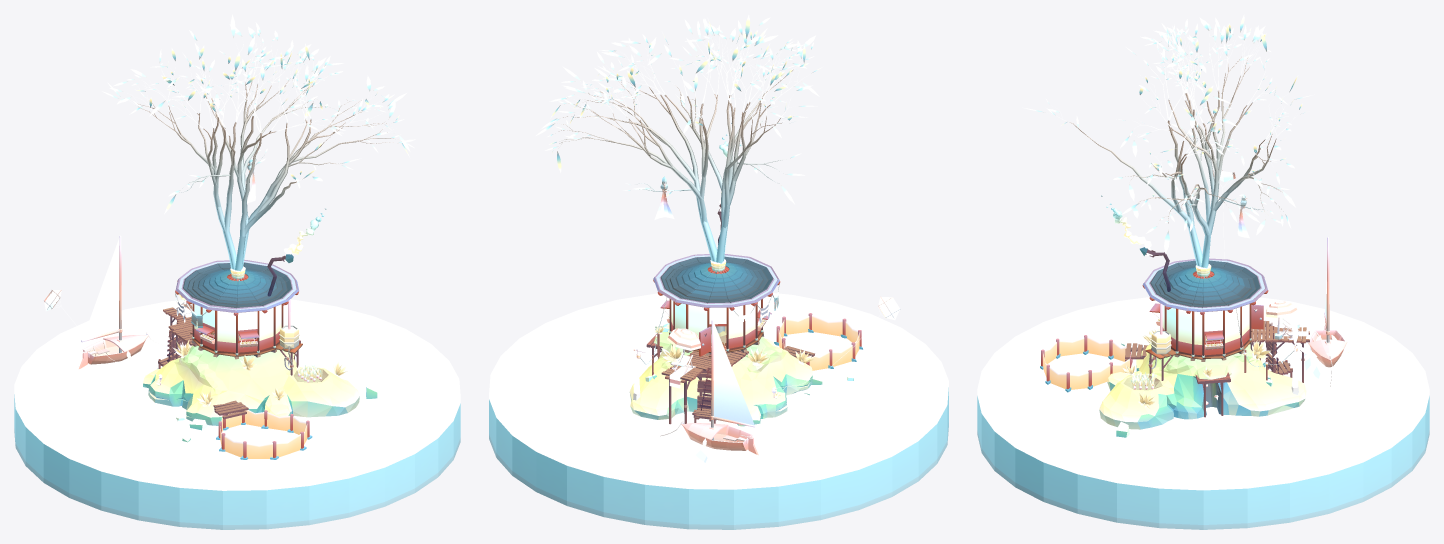
The model's file is island.gltf.
The picture shows the model from 3 angles, left to right: view 1: azimuth 30°, elevation 25°; view 2: azimuth 150°, elevation 25°; view 3: azimuth 270°, elevation 25°; orthographic projection. The views are drawn at different scales.
Parts seen in each view (by area): view 1: Circle.003, tree, Sphere.002, Plane.007, Circle, Plane, Plane.005, Sphere.001, Plane.008, Plane.029, Plane.018, Sphere.004; view 2: Circle.003, tree, Sphere.002, Plane.007, Plane, Circle, Plane.005, Plane.008, Sphere.001, Plane.029, Plane.018, Sphere.004 (+1 smaller); view 3: Circle.003, tree, Sphere.002, Plane.007, Circle, Plane.005, Sphere.001, Plane.008, Plane, Plane.018, Plane.029, Sphere.004.
Boxes of the visible parts, <box> form: Circle.003: <box>14,299,460,529</box>; tree: <box>102,14,415,337</box>; Sphere.002: <box>143,337,377,442</box>; Plane.007: <box>175,259,299,312</box>; Circle: <box>127,353,384,464</box>; Plane: <box>81,235,148,364</box>; Plane.005: <box>194,280,281,354</box>; Sphere.001: <box>220,410,307,458</box>; Plane.008: <box>158,304,300,419</box>; Plane.029: <box>70,347,157,374</box>; Plane.018: <box>175,274,298,356</box>; Sphere.004: <box>216,406,312,459</box>; Circle.003: <box>489,293,948,529</box>; tree: <box>536,15,822,333</box>; Sphere.002: <box>629,322,853,426</box>; Plane.007: <box>653,254,779,307</box>; Plane: <box>681,320,755,450</box>; Circle: <box>621,328,868,431</box>; Plane.005: <box>671,272,760,350</box>; Plane.008: <box>646,326,814,421</box>; Sphere.001: <box>778,315,859,370</box>; Plane.029: <box>674,435,765,463</box>; Plane.018: <box>653,266,780,352</box>; Sphere.004: <box>774,313,862,368</box>; Circle.003: <box>977,297,1429,529</box>; tree: <box>1022,14,1314,278</box>; Sphere.002: <box>1099,336,1306,437</box>; Plane.007: <box>1143,258,1267,312</box>; Circle: <box>1035,340,1316,442</box>; Plane.005: <box>1162,277,1249,356</box>; Sphere.001: <box>1043,337,1130,389</box>; Plane.008: <box>1125,321,1309,417</box>; Plane: <box>1308,237,1347,367</box>; Plane.018: <box>1142,271,1268,359</box>; Plane.029: <box>1299,347,1361,379</box>; Sphere.004: <box>1040,335,1132,392</box>.
Bounding box in the file's own units: 8.67 × 8.53 × 8.67.
